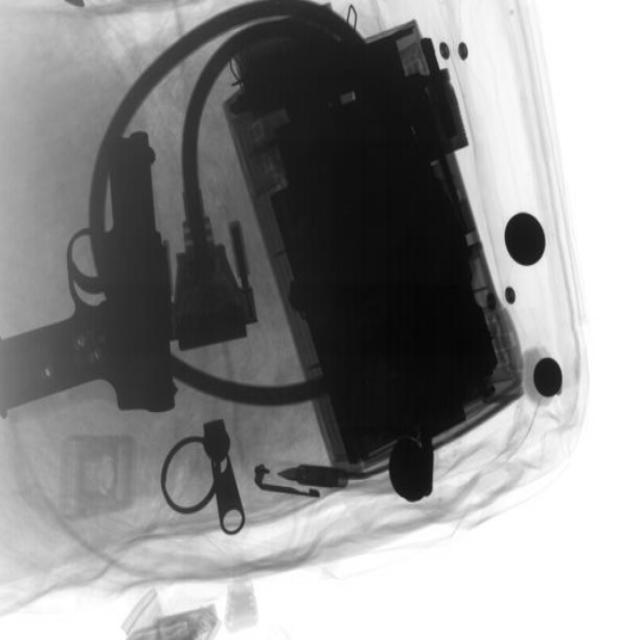GUN: (1, 134, 174, 372)
